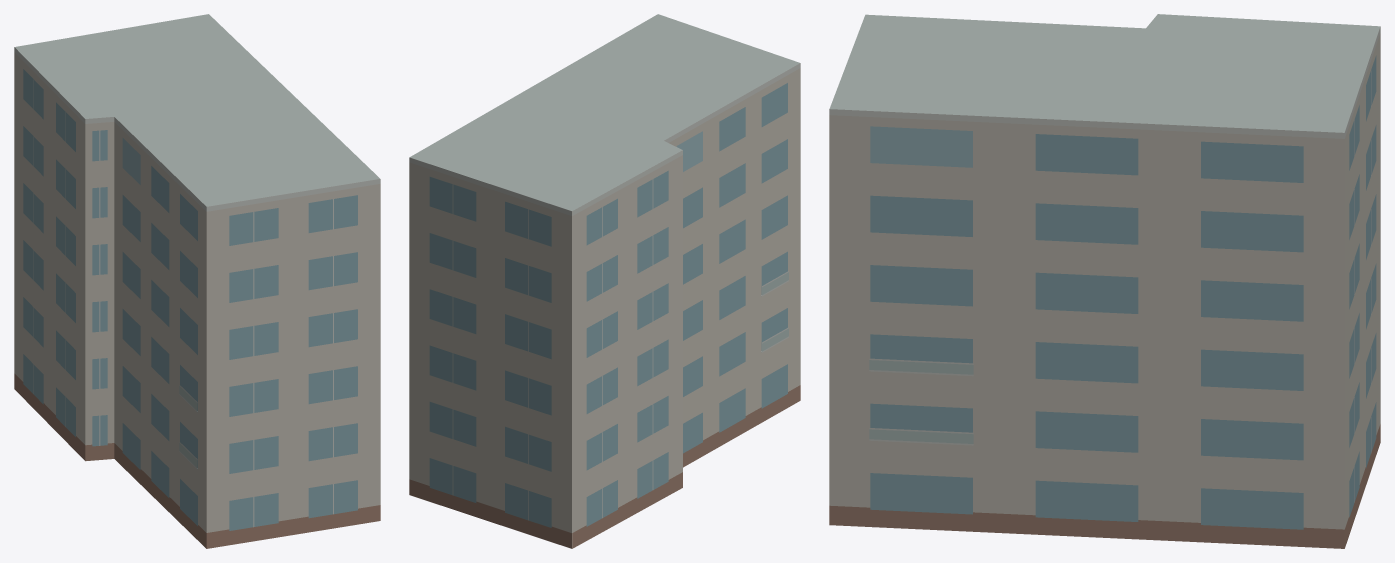
File: survey-upis-32522889.glb
3 views of the same model, side by side, from view 1: azimuth 30°, elevation 25°; view 2: azimuth 150°, elevation 25°; view 3: azimuth 270°, elevation 25° (orthographic). The views are drawn at different scales.
Parts seen in each view (by area): view 1: survey-upis-32522889.tmp; view 2: survey-upis-32522889.tmp; view 3: survey-upis-32522889.tmp.
Boxes of the visible parts, bbox=[...] form: survey-upis-32522889.tmp: bbox=[14, 14, 380, 548]; survey-upis-32522889.tmp: bbox=[409, 14, 800, 548]; survey-upis-32522889.tmp: bbox=[829, 14, 1380, 548].
Bounding box in the file's own units: 10.31 × 16.8 × 20.18.
